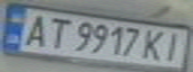1: (106, 24, 127, 56)
7: (121, 25, 145, 58)
9: (66, 19, 96, 53), (87, 20, 112, 55)
A: (15, 11, 54, 47)
I: (157, 30, 190, 63)
K: (139, 27, 172, 62)
T: (39, 15, 75, 49)
